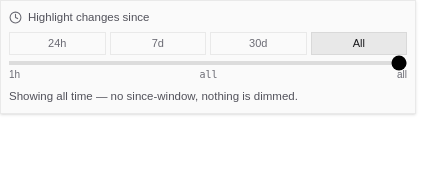
Test: <TimeScrubber> › lights ONLY the ids the server returned that this client holds
Step 1. Click the button "7d" → (158, 44), box [110,32,206,55]
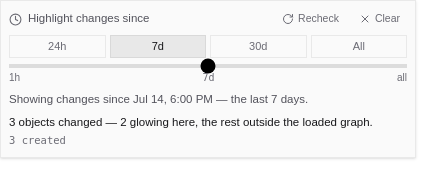
Result: the text "2 glowing here" is shown at [9,116,373,128]
